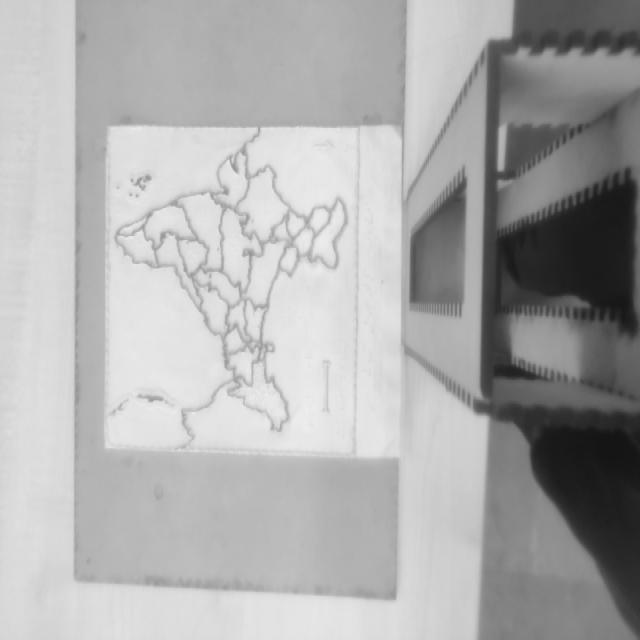map: (103, 124, 359, 453)
